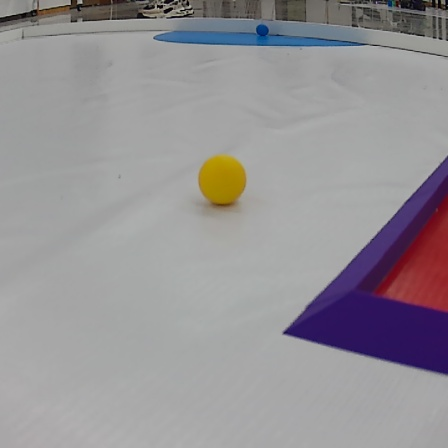blue: (255, 25, 270, 36)
blue_base: (146, 25, 367, 54)
red_aim: (282, 160, 448, 377)
yellow: (197, 152, 247, 205)
